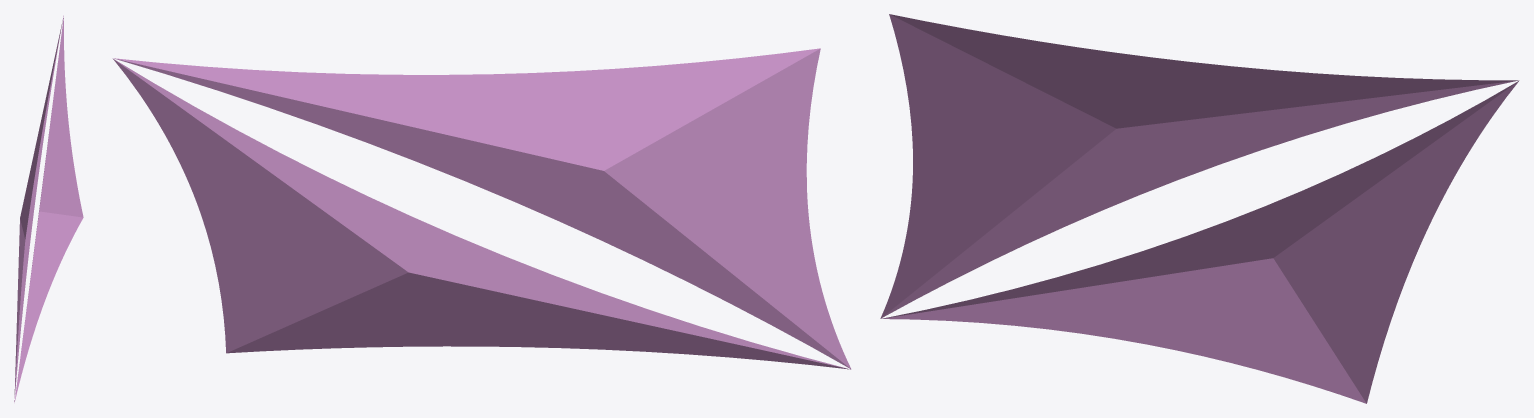
File: TYPE1-1.glb
The picture shows the model from 3 angles, left to right: view 1: azimuth 30°, elevation 25°; view 2: azimuth 150°, elevation 25°; view 3: azimuth 270°, elevation 25°; orthographic projection. The views are drawn at different scales.
Visible parts, largest first — view 1: TYPE1-1 (×5); view 2: TYPE1-1 (×6); view 3: TYPE1-1 (×6).
Boxes of the visible parts, x1,y1,x2,y2 form: TYPE1-1 (×5): (14,16,83,402); TYPE1-1 (×6): (113,48,851,369); TYPE1-1 (×6): (880,14,1518,403).
Size of the model in its own units: 9.89 by 9.99 by 13.07.
